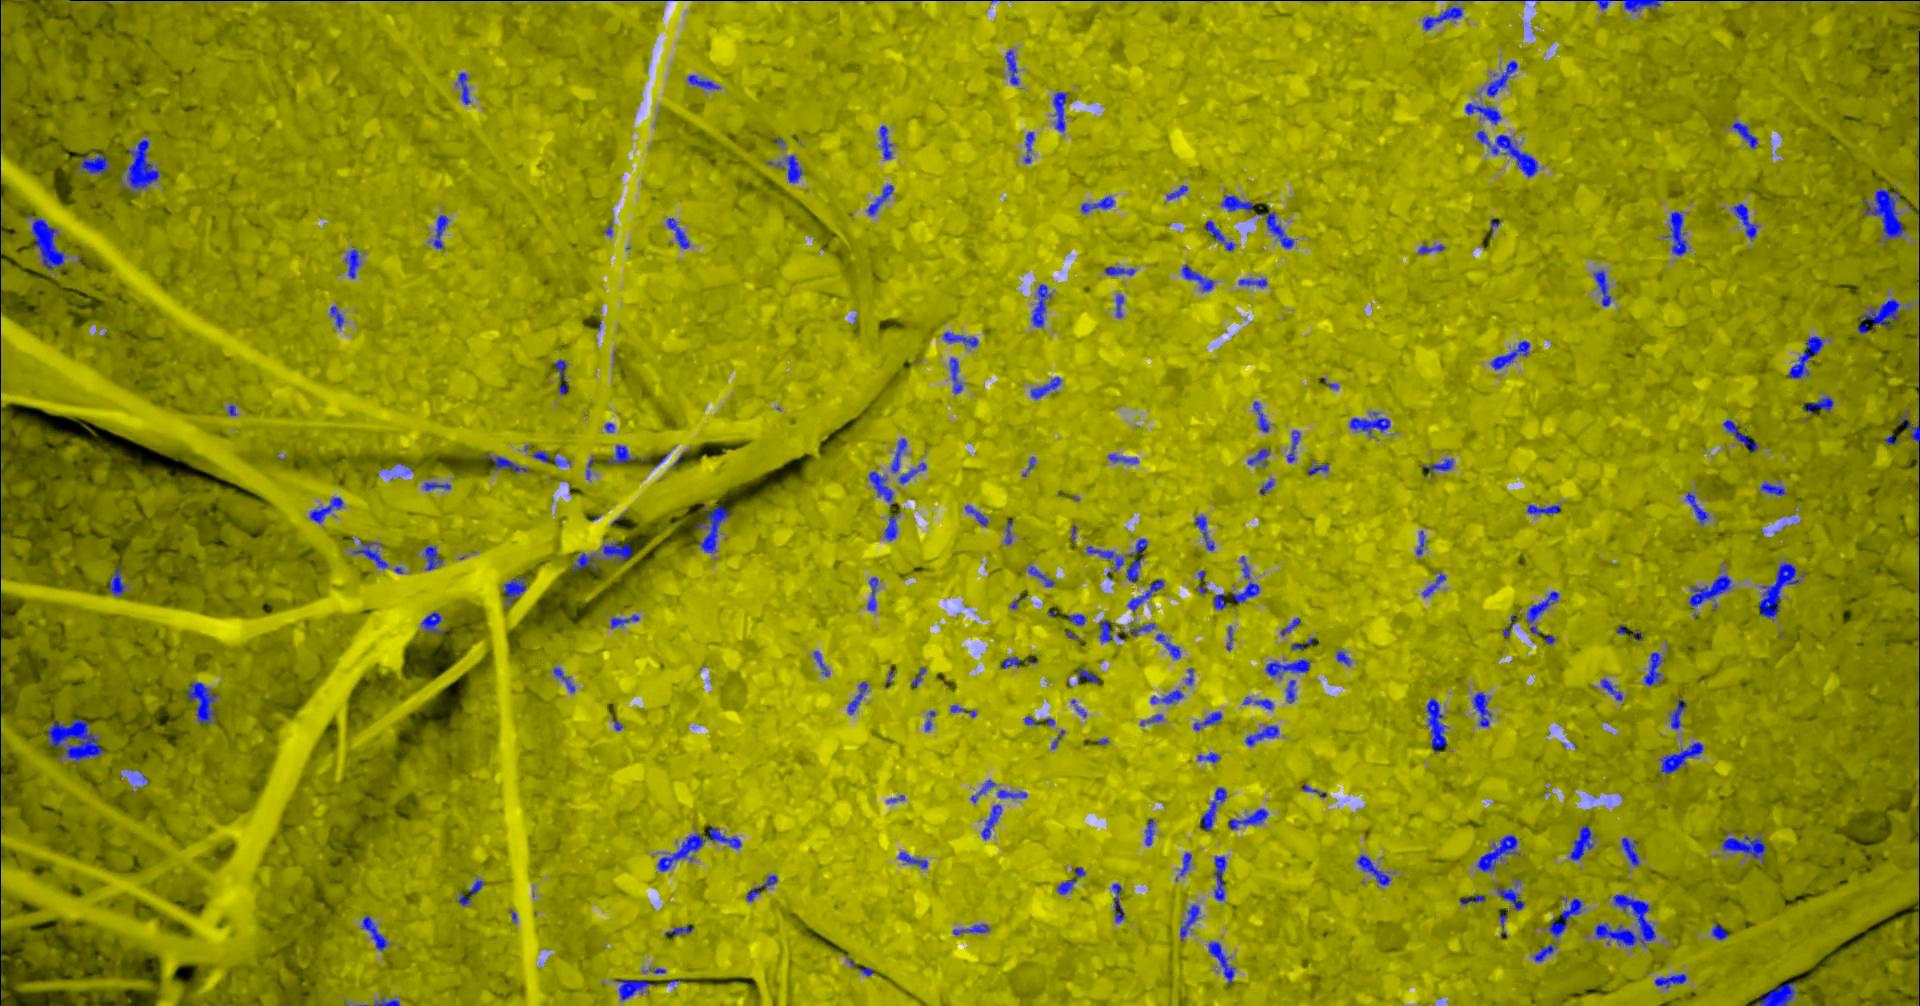ant: (658, 826, 743, 871), (1478, 130, 1540, 177), (1760, 561, 1801, 619), (1864, 188, 1906, 238), (128, 138, 161, 194), (33, 218, 67, 271), (697, 506, 733, 553), (1478, 835, 1519, 871), (1790, 335, 1825, 379), (1661, 741, 1705, 774), (1859, 298, 1901, 333), (1723, 831, 1768, 862), (1690, 574, 1733, 606), (1528, 591, 1559, 634), (1258, 211, 1295, 248), (1550, 895, 1583, 936), (1233, 556, 1261, 603), (188, 681, 218, 723), (1129, 579, 1164, 612), (1492, 340, 1531, 370), (1488, 60, 1519, 97), (1201, 788, 1228, 829), (1210, 941, 1236, 984), (1724, 419, 1759, 451), (1357, 854, 1392, 885), (1429, 697, 1448, 752), (1665, 211, 1688, 255), (1351, 412, 1390, 437), (1423, 6, 1464, 30), (1206, 220, 1237, 251), (1087, 545, 1125, 570), (311, 495, 345, 523), (354, 539, 389, 567), (1128, 539, 1149, 582), (870, 471, 897, 506), (363, 915, 389, 950), (1735, 203, 1759, 240), (1183, 264, 1217, 291), (1032, 283, 1053, 326), (1267, 658, 1310, 678), (1760, 982, 1798, 1005), (486, 453, 531, 473), (1571, 826, 1595, 860), (1230, 808, 1269, 829), (869, 184, 895, 215), (747, 875, 778, 901), (1465, 103, 1502, 124), (1058, 866, 1086, 894), (617, 979, 655, 1000), (1688, 492, 1710, 525), (1181, 903, 1201, 940), (1196, 514, 1217, 550), (983, 804, 1003, 840), (777, 155, 804, 182), (1733, 121, 1759, 149), (668, 217, 691, 248), (505, 575, 528, 606), (1246, 725, 1280, 746), (1474, 691, 1493, 727), (1644, 652, 1665, 685), (1157, 633, 1182, 658), (460, 879, 485, 904), (1622, 0, 1677, 11), (1498, 887, 1526, 909), (1594, 271, 1611, 306), (1032, 376, 1062, 398), (850, 681, 869, 714), (971, 779, 997, 803), (1054, 91, 1069, 131), (81, 152, 110, 173), (891, 437, 908, 473), (1423, 572, 1448, 596), (900, 462, 928, 483), (1029, 565, 1057, 586), (610, 445, 639, 464), (1622, 837, 1641, 866), (1112, 883, 1126, 922), (555, 667, 577, 692), (1082, 196, 1115, 212), (434, 213, 450, 249), (1901, 414, 1920, 442), (604, 541, 632, 560), (1195, 711, 1223, 730), (966, 504, 990, 526), (573, 553, 599, 572), (1215, 856, 1227, 901), (690, 74, 723, 89), (1222, 194, 1255, 210), (1804, 395, 1835, 412), (1671, 697, 1688, 728), (899, 851, 930, 868), (422, 611, 444, 633), (457, 72, 472, 104), (425, 545, 444, 570), (1656, 973, 1688, 988), (1255, 401, 1271, 431), (110, 565, 127, 594), (945, 332, 979, 345), (1603, 678, 1624, 700), (345, 248, 361, 278), (1152, 688, 1185, 702), (951, 357, 964, 392), (1288, 431, 1302, 462), (1007, 50, 1020, 84), (881, 124, 894, 159), (556, 359, 569, 394), (1534, 944, 1558, 962), (1423, 459, 1454, 473), (612, 614, 641, 627), (1244, 696, 1275, 709), (1250, 447, 1271, 465), (954, 923, 990, 934), (815, 652, 830, 676), (1025, 131, 1036, 163), (1761, 481, 1787, 495), (1528, 504, 1562, 514), (869, 575, 879, 610), (1503, 614, 1519, 636), (1283, 617, 1302, 635), (665, 925, 695, 936), (358, 997, 401, 1005), (886, 514, 899, 540), (1133, 622, 1156, 636), (1168, 184, 1189, 199), (1106, 265, 1137, 276), (1109, 453, 1139, 464), (1079, 668, 1100, 683), (952, 704, 977, 716), (331, 305, 345, 326), (1293, 636, 1316, 649), (1180, 852, 1192, 875), (998, 789, 1029, 798), (1145, 818, 1156, 845), (1101, 619, 1112, 641), (1142, 714, 1164, 725), (1199, 752, 1222, 763), (1462, 894, 1487, 904), (1713, 923, 1730, 939), (424, 481, 452, 490), (913, 667, 927, 685), (1420, 244, 1446, 253), (1309, 464, 1330, 475), (1261, 478, 1275, 494), (1417, 530, 1426, 555), (1003, 655, 1021, 668), (1239, 278, 1269, 286), (1068, 614, 1087, 625), (1006, 520, 1015, 544), (1338, 650, 1352, 666), (533, 450, 550, 462), (1594, 0, 1617, 9), (1288, 680, 1297, 702), (1215, 593, 1228, 608), (1117, 293, 1125, 318), (1886, 434, 1900, 445)
